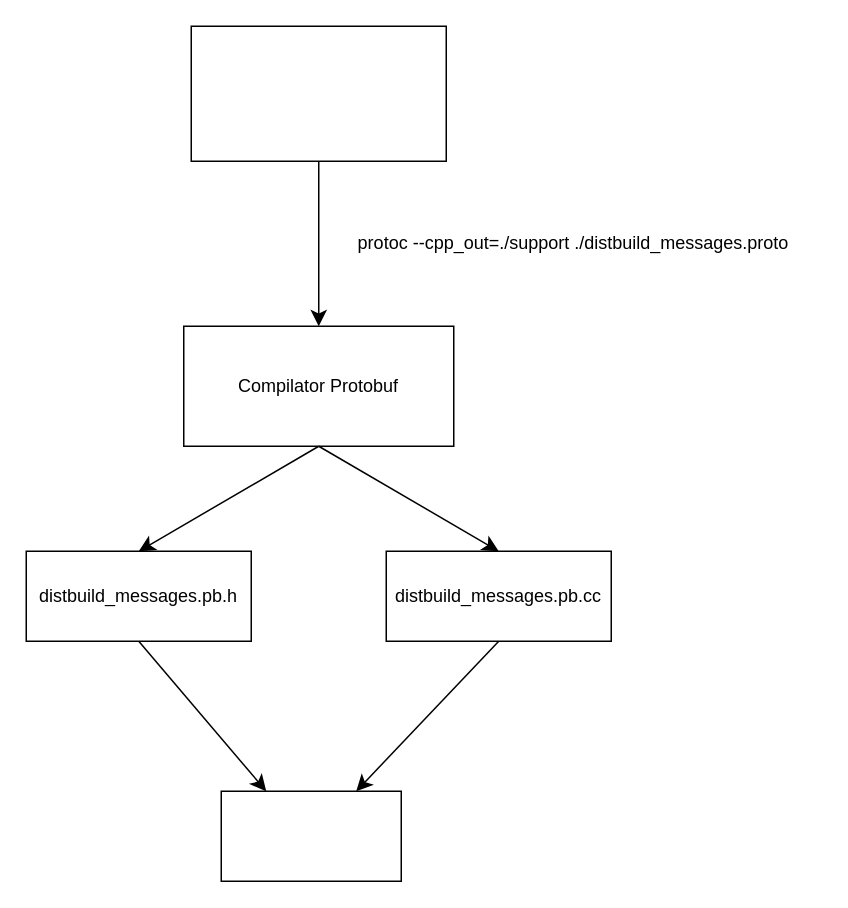
The diagram is 848 pixels wide and 908 high, and some of its shapes have lost their labels. The centre of each missing label's shape, as x and y in pixels:
Aplicație C++: the point at 310,835
Fișier .proto: the point at 318,93
